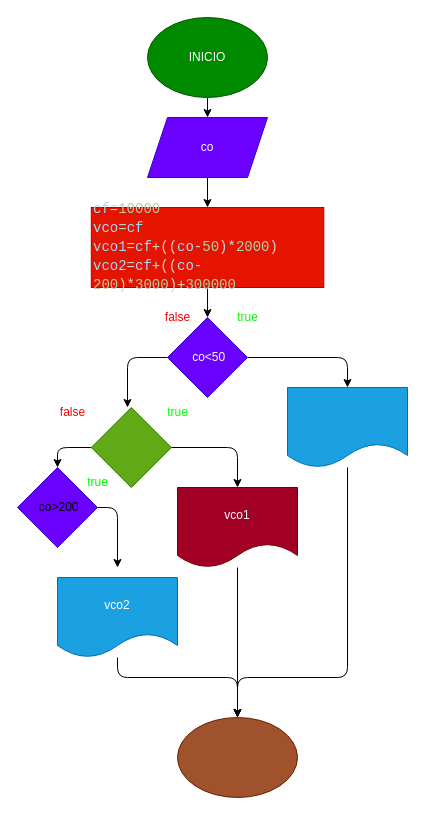
The diagram is 425 pixels wide and 815 high, and some of its shapes have lost their labels. The shapes that lost their labels are listed below. From the top down, each one's centre as x and y in pixels, then its label:
At (x=130, y=447): "co>50 and co<200".
At (x=347, y=427): "vco".
At (x=237, y=757): "FIN".
